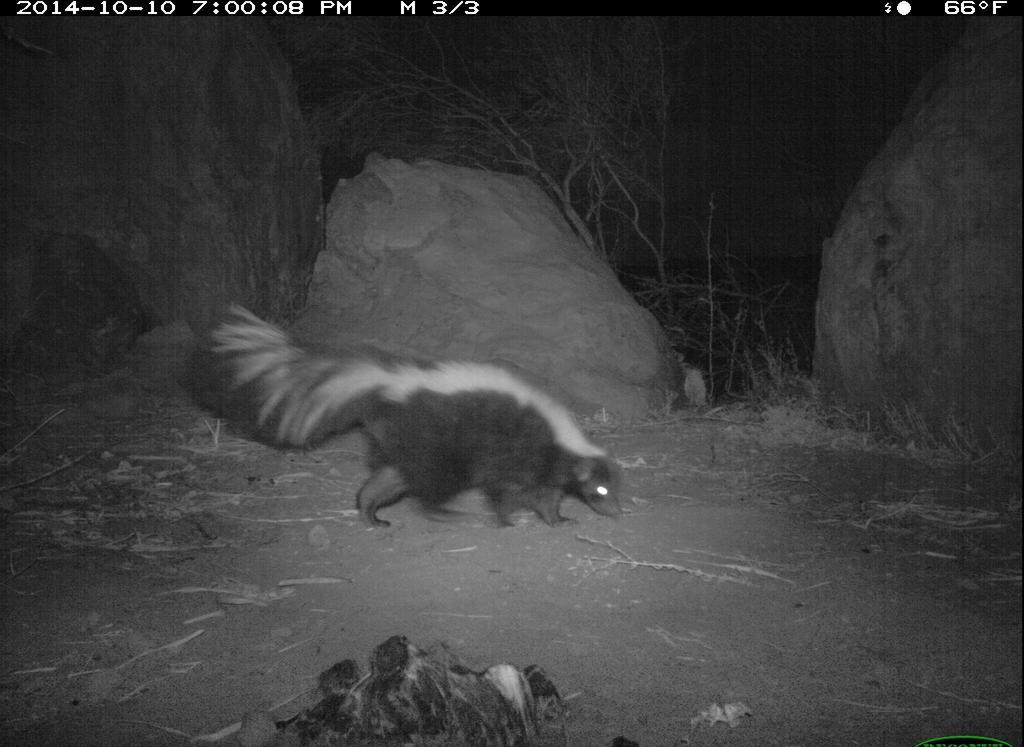skunk: (181, 290, 630, 536)
